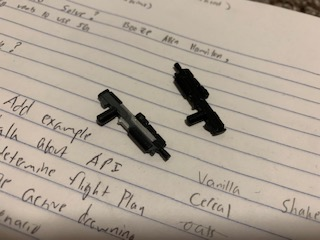rifle: (97, 87, 172, 163), (168, 61, 229, 136)
